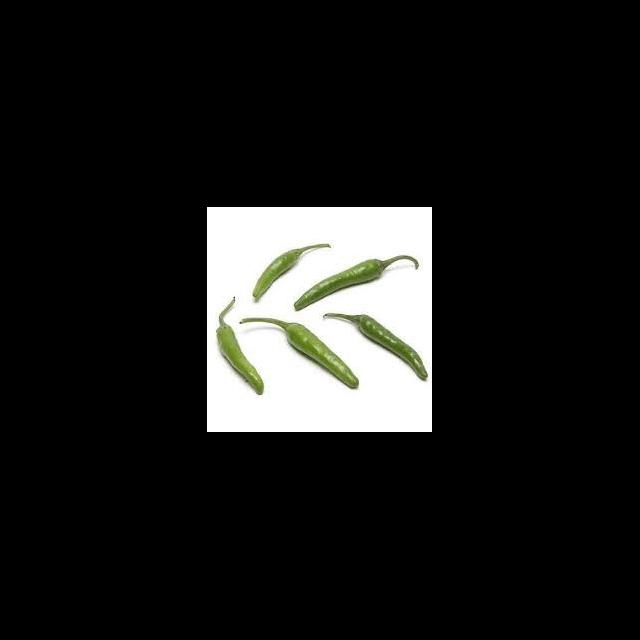chili_pepper: (296, 256, 426, 312), (281, 320, 361, 391), (350, 314, 429, 382), (251, 247, 331, 302), (214, 306, 263, 395)
